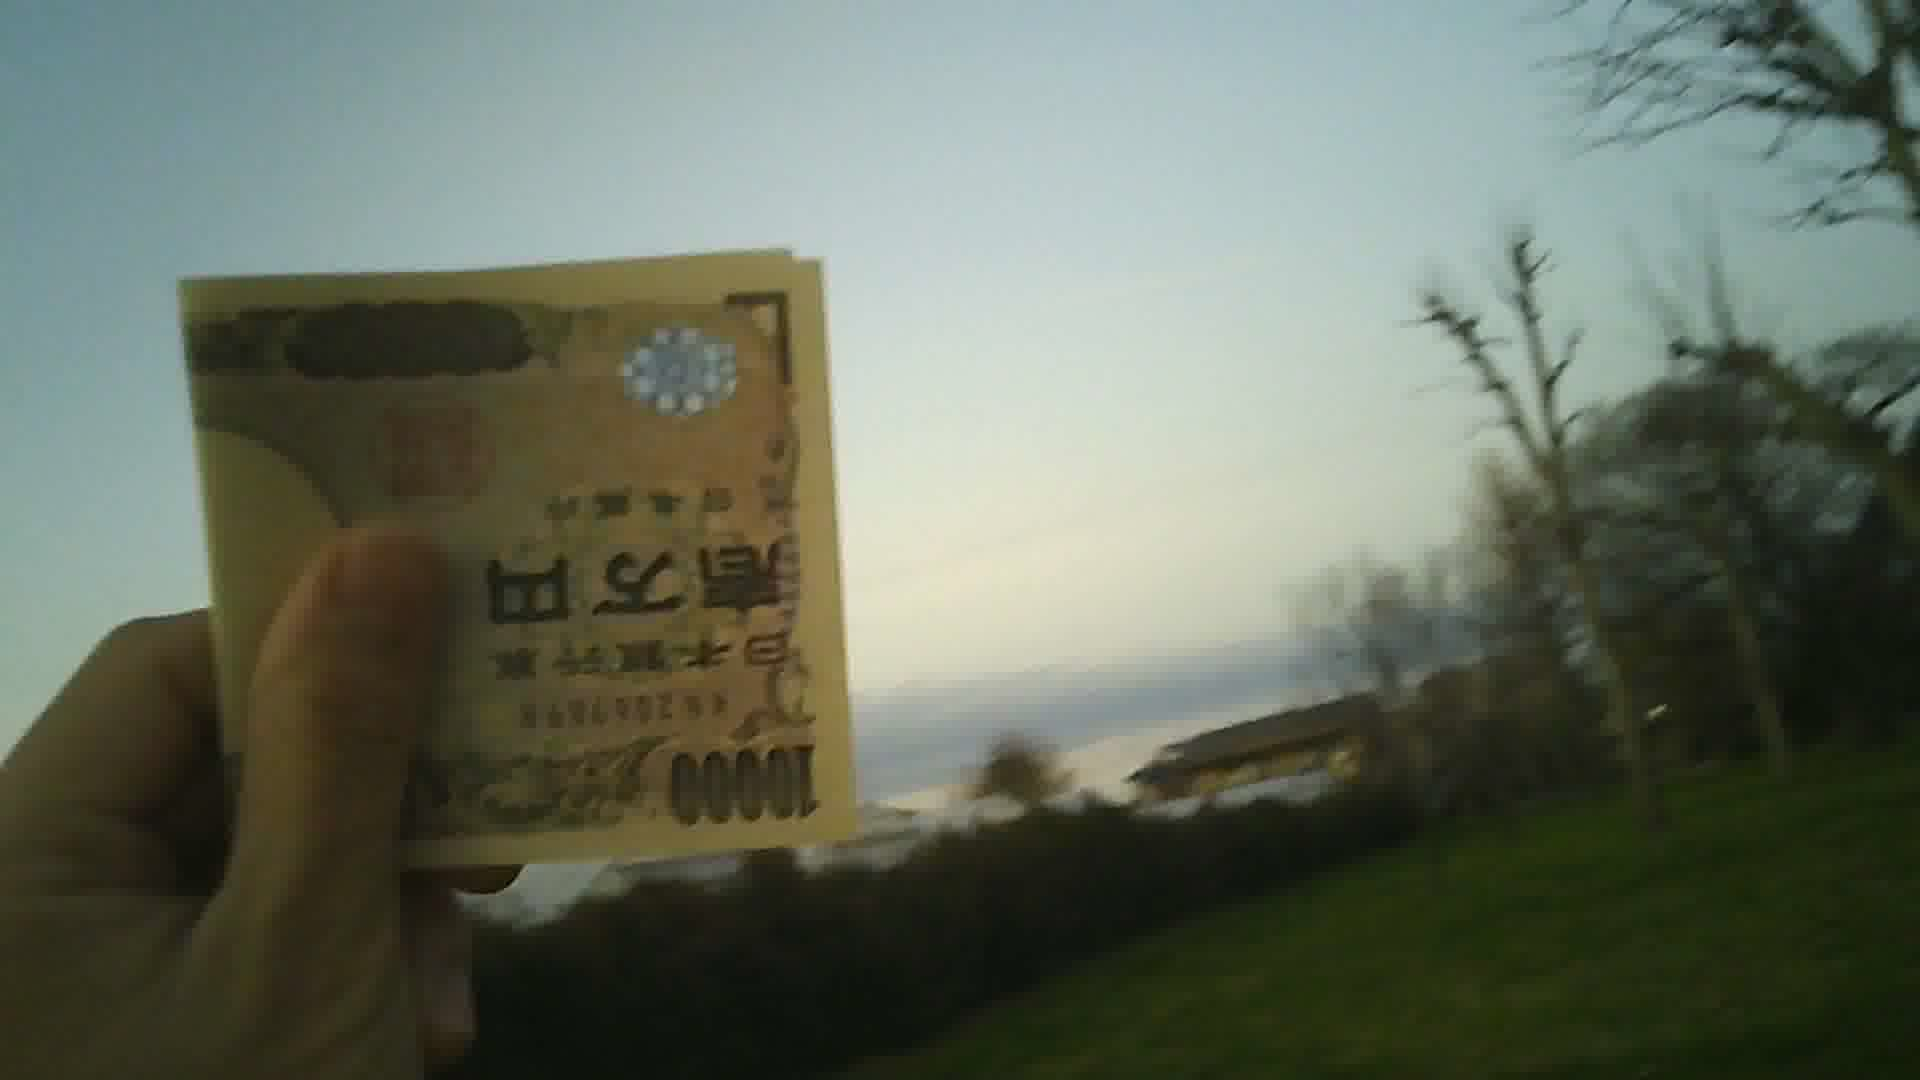10,000 Yen: (162, 251, 898, 899)
